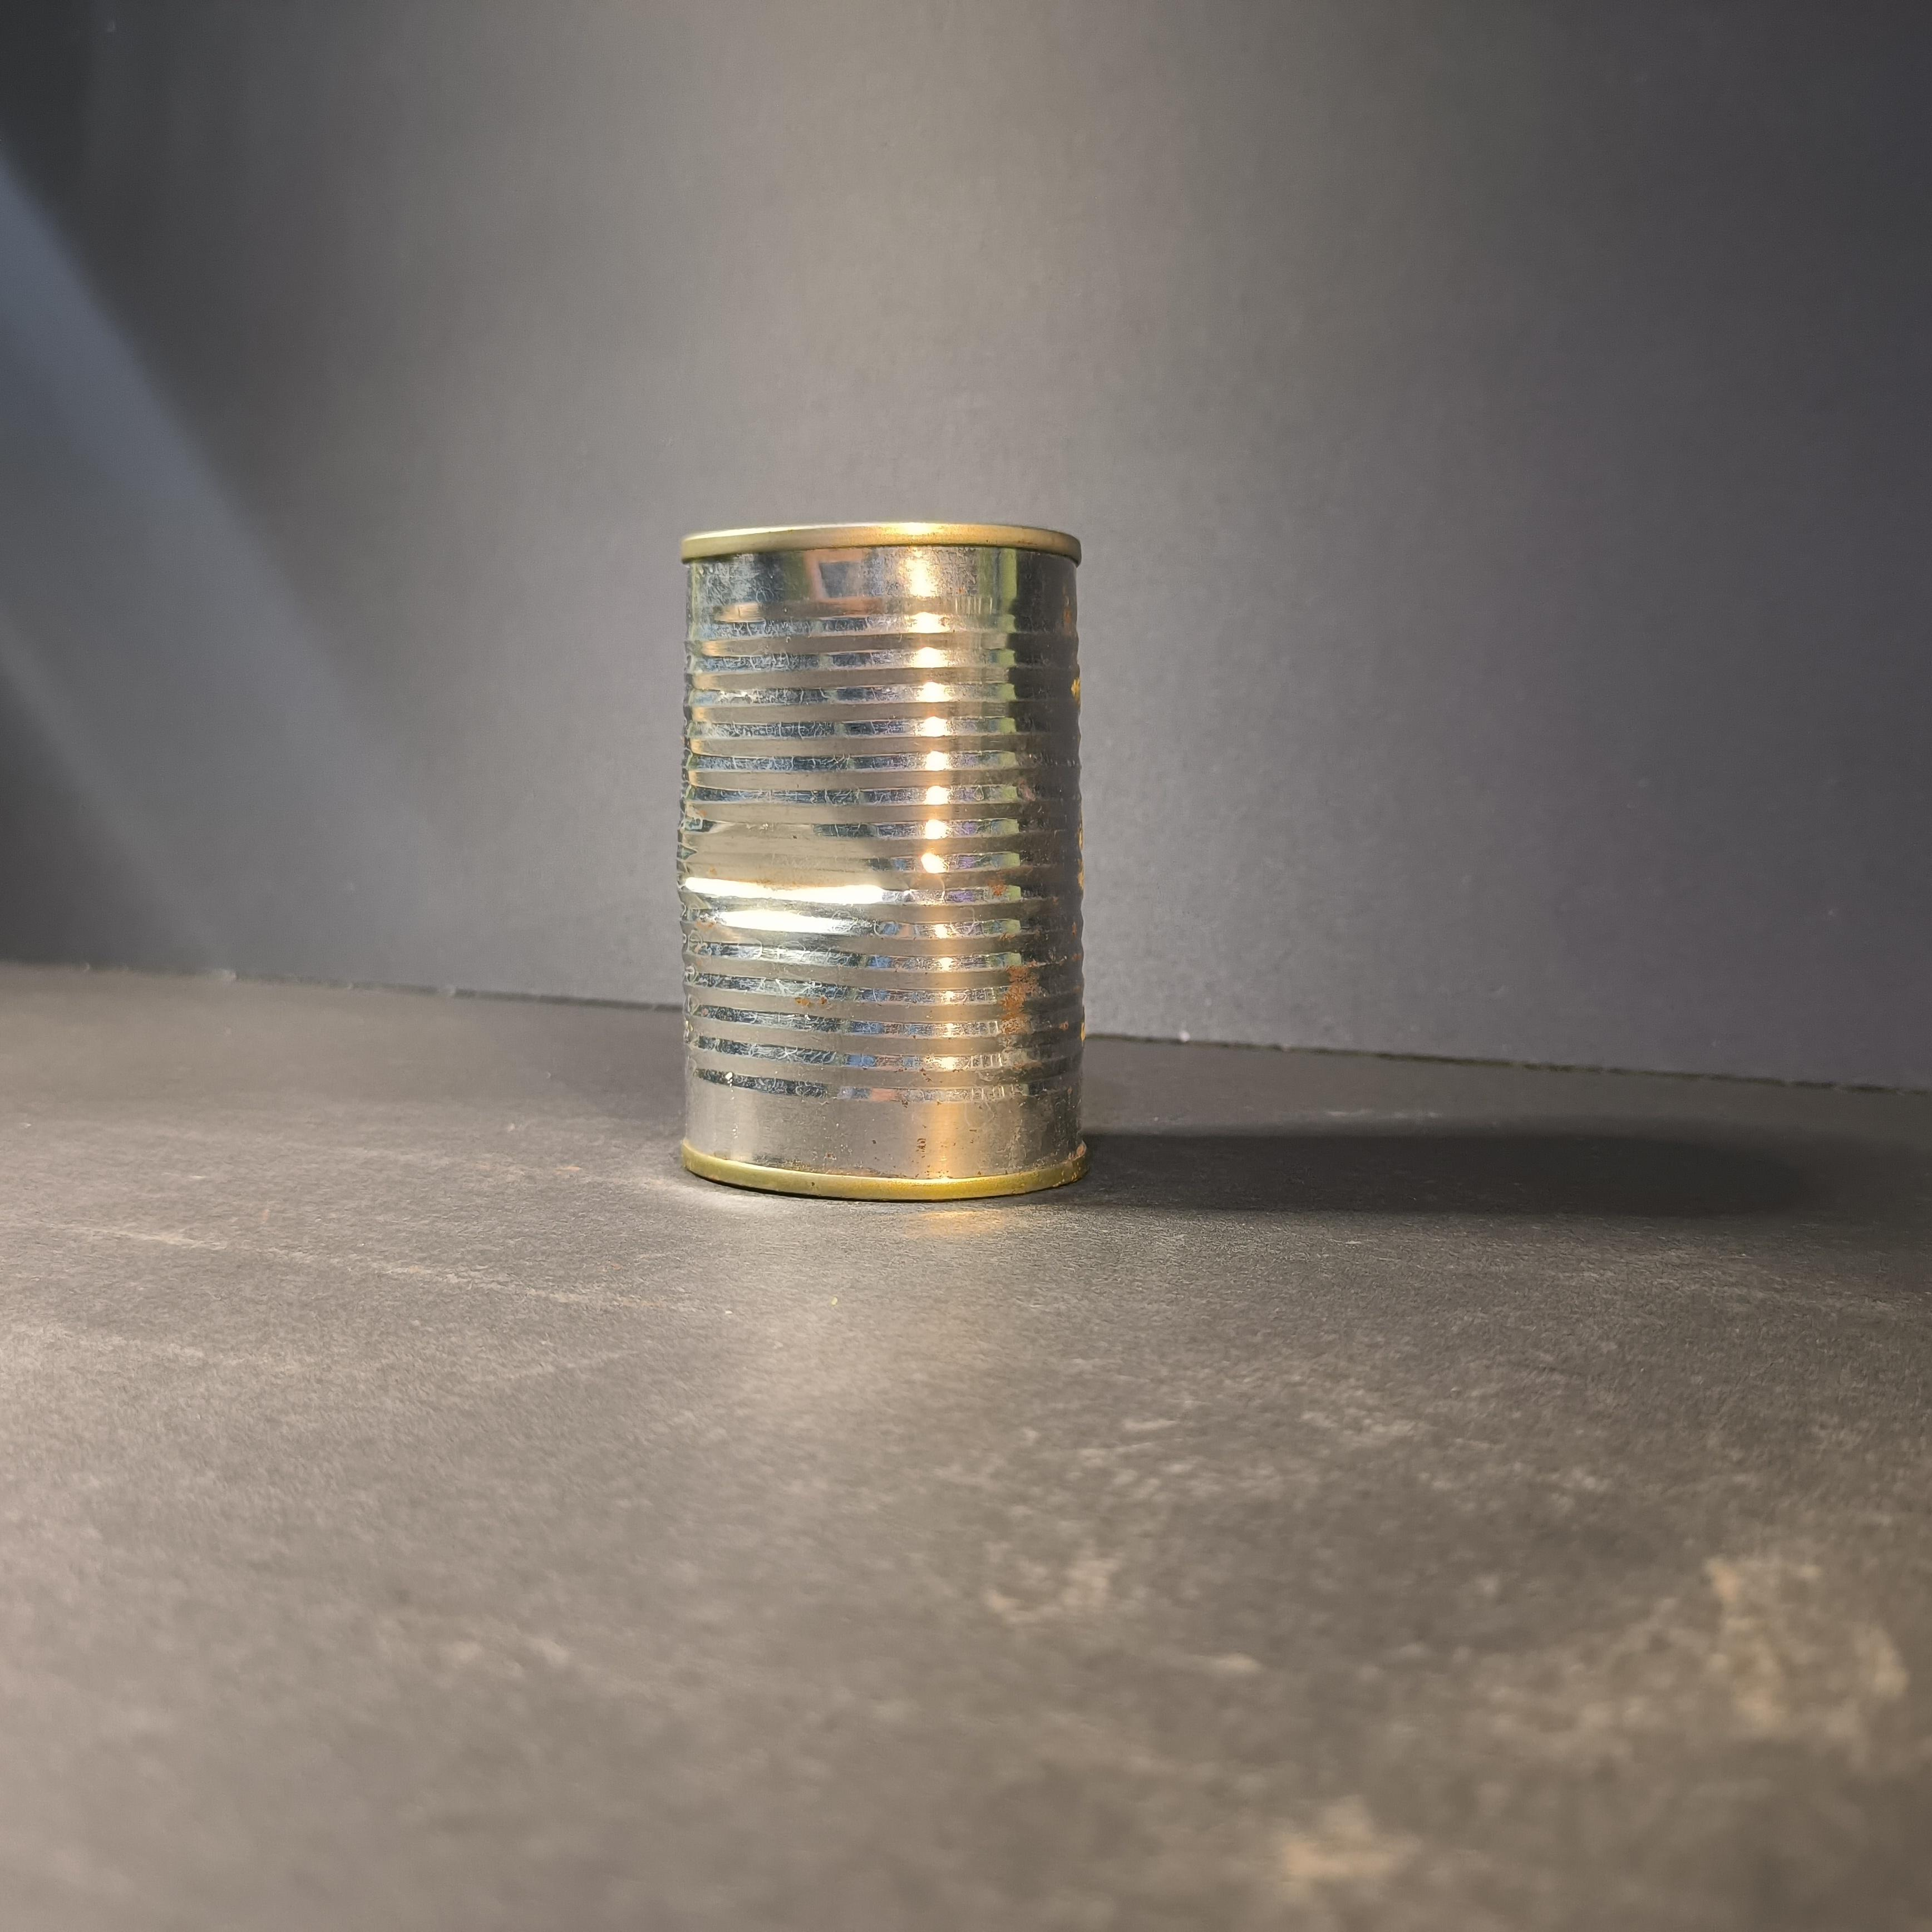Dented: (660, 515, 1113, 1235)
